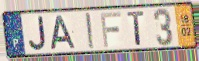3: (152, 7, 174, 48)
A: (50, 15, 77, 51)
F: (99, 10, 123, 48)
I: (84, 11, 97, 50)
J: (27, 15, 48, 52)
T: (126, 9, 147, 46)
